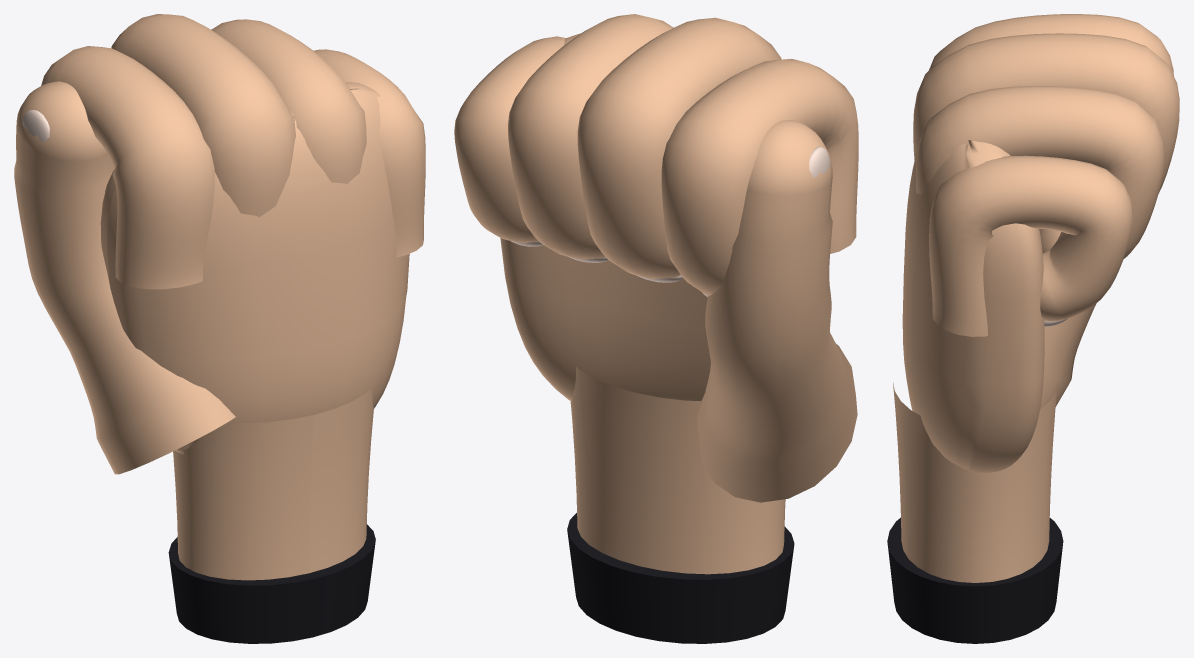
The model's file is hand-right-thumb.glb.
3 renders of one model, left to right at view 1: azimuth 30°, elevation 25°; view 2: azimuth 150°, elevation 25°; view 3: azimuth 270°, elevation 25°, orthographic. The views are drawn at different scales.
Parts seen in each view (by area): view 1: hand-right-thumb; view 2: hand-right-thumb; view 3: hand-right-thumb.
Part boxes in pixels (<box>): hand-right-thumb: <box>14,14,425,643</box>; hand-right-thumb: <box>454,14,858,643</box>; hand-right-thumb: <box>887,14,1179,643</box>.
Bounding box in the file's own units: 0.0915 × 0.1431 × 0.0694.
